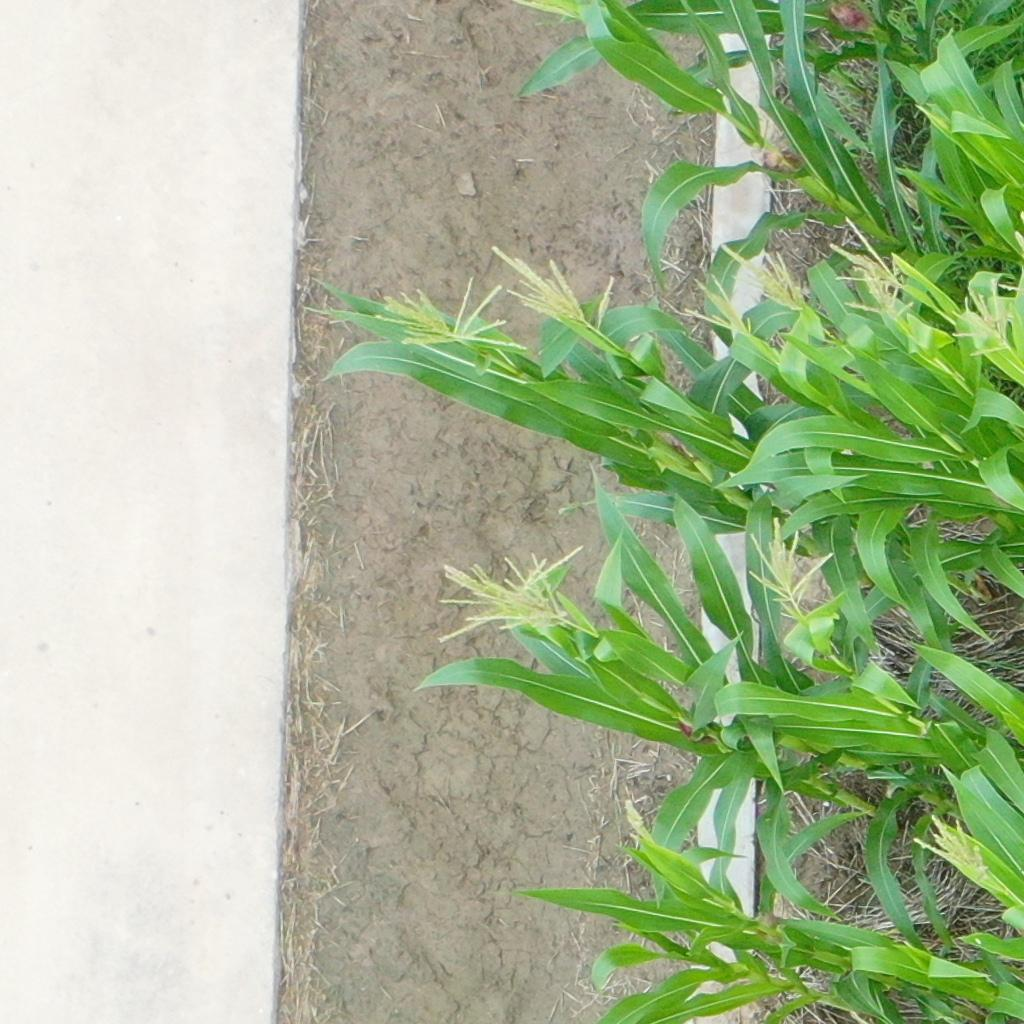Tassel: (432, 545, 596, 643), (371, 274, 529, 354), (490, 245, 614, 337), (748, 516, 837, 607), (720, 240, 808, 312), (911, 814, 993, 887), (824, 215, 905, 286), (950, 279, 1012, 357), (683, 275, 757, 339), (843, 274, 915, 324), (623, 800, 657, 843)
